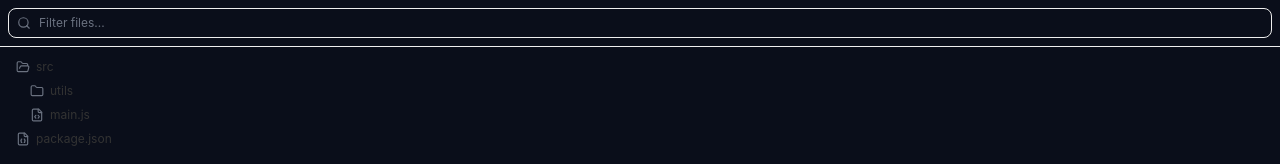
Test: FileTree › filters files by search term
expect the text "package.json" is shown: met, box [36,131,112,147]
Step 1. Type "helpers" into the field with placeholder "Filter files..." → (651, 23), box [39,15,1263,31]
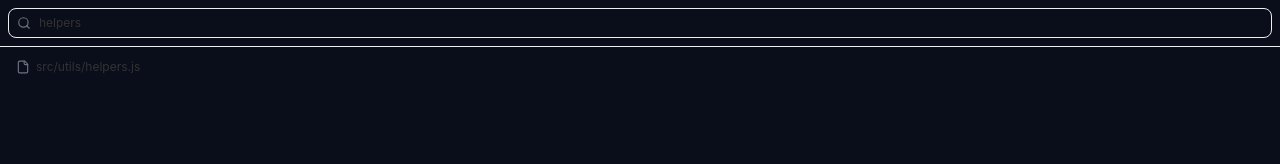
expect the text "src/utils/helpers.js" is shown: met, box [36,59,140,75]
expect the button "package.json" is gone: met
